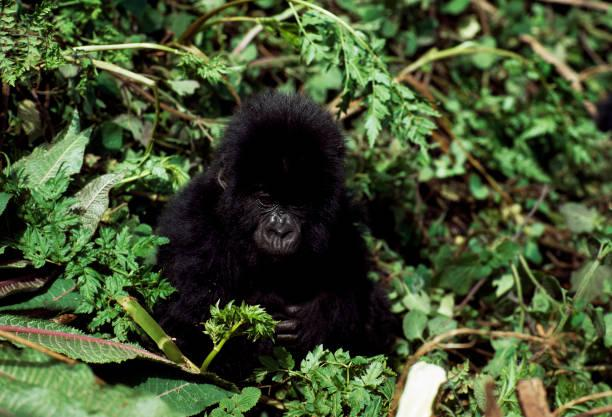goriile_montagne: (162, 96, 397, 349)
